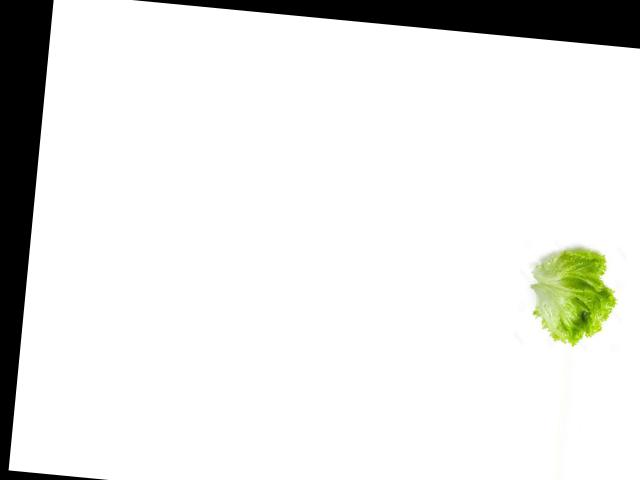lettuce: (523, 236, 618, 351)
